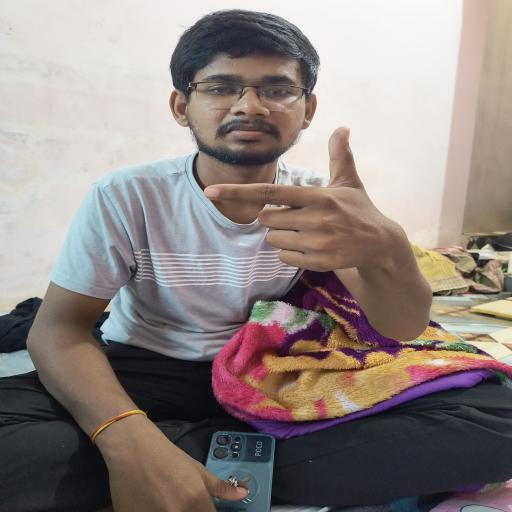OK: (181, 118, 421, 292)
